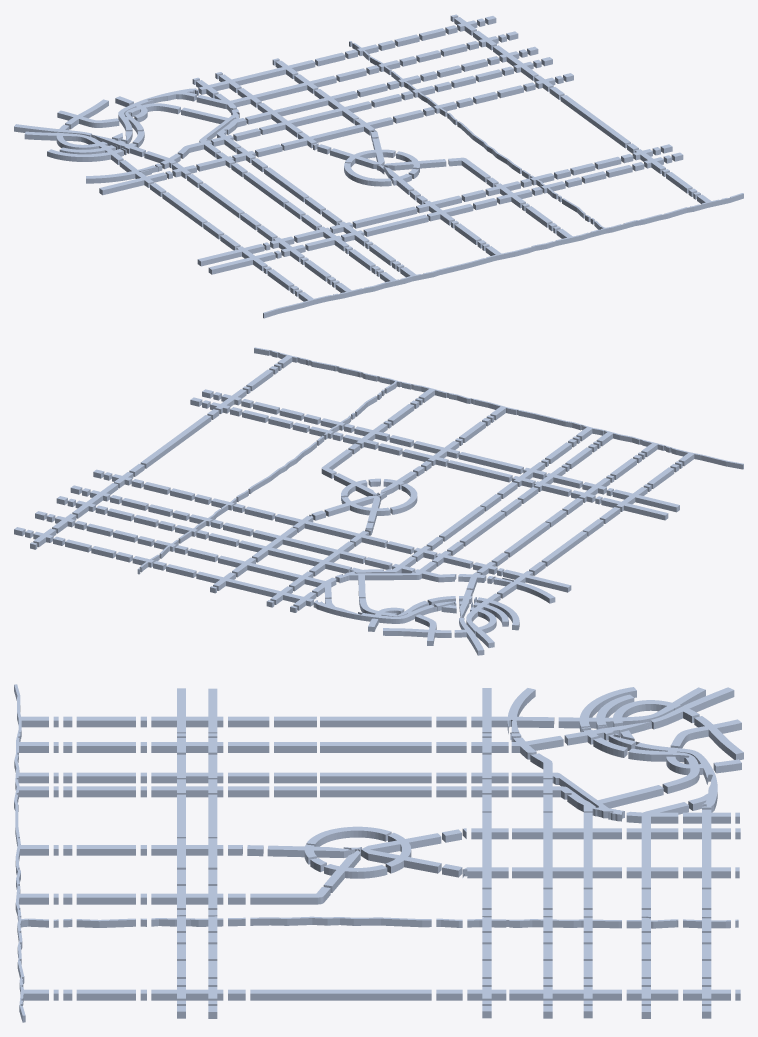
The model's file is input_01_main_roads_original.glb.
The picture shows the model from 3 angles, top to bottom: view 1: azimuth 30°, elevation 25°; view 2: azimuth 150°, elevation 25°; view 3: azimuth 270°, elevation 25°; orthographic projection. The views are drawn at different scales.
Parts seen in each view (by area): view 1: world; view 2: world; view 3: world.
Part boxes in pixels (x1=…): world: x1=14, y1=14, x2=743, y2=318; world: x1=14, y1=347, x2=743, y2=655; world: x1=14, y1=684, x2=743, y2=1022.
Bounding box in the file's own units: 103 × 1 × 95.65.
